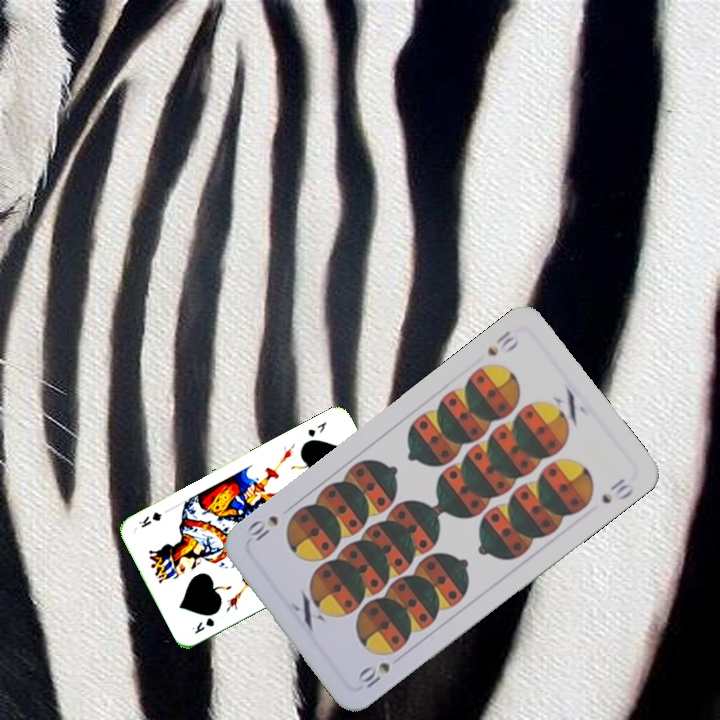GK: (188, 613, 217, 636), (304, 417, 329, 440)
S10: (483, 326, 522, 359), (356, 658, 393, 691)
